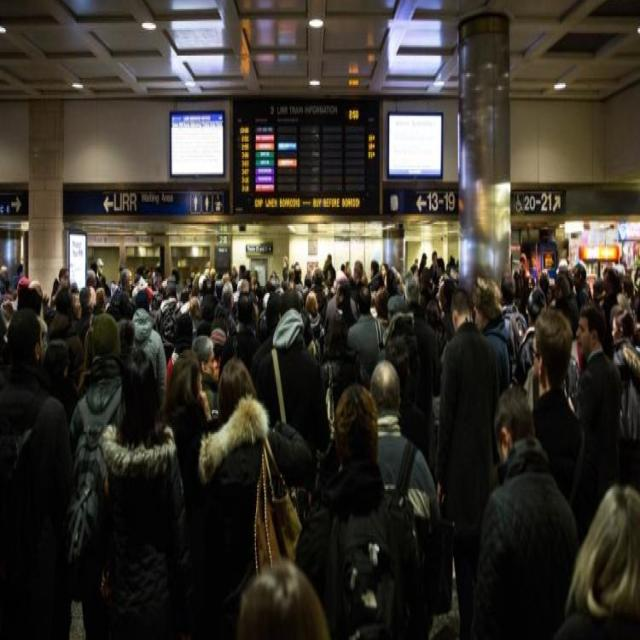body: (0, 223, 464, 336), (295, 380, 420, 639), (192, 352, 304, 639), (90, 346, 193, 638), (466, 385, 582, 640), (0, 307, 71, 640), (435, 284, 498, 640), (369, 355, 442, 640), (0, 391, 80, 639), (68, 308, 126, 639), (256, 284, 330, 457), (562, 477, 640, 639), (116, 319, 162, 593), (531, 306, 587, 508), (570, 303, 622, 516), (532, 260, 640, 340), (162, 344, 211, 506), (238, 557, 332, 638), (128, 288, 168, 445), (609, 302, 640, 489), (471, 274, 514, 396), (345, 282, 385, 392), (39, 338, 78, 430), (514, 284, 547, 390), (228, 290, 262, 378), (554, 294, 587, 374), (326, 284, 356, 364), (159, 278, 185, 367), (499, 270, 528, 344), (192, 334, 218, 412), (550, 274, 577, 340), (302, 289, 325, 366), (382, 294, 414, 349), (212, 279, 238, 336), (384, 335, 410, 387), (109, 267, 134, 320), (373, 288, 392, 356), (162, 336, 182, 397), (64, 336, 86, 391), (518, 252, 533, 326), (573, 262, 593, 314), (353, 260, 366, 294), (210, 356, 222, 384), (193, 193, 211, 211), (426, 297, 440, 317)
